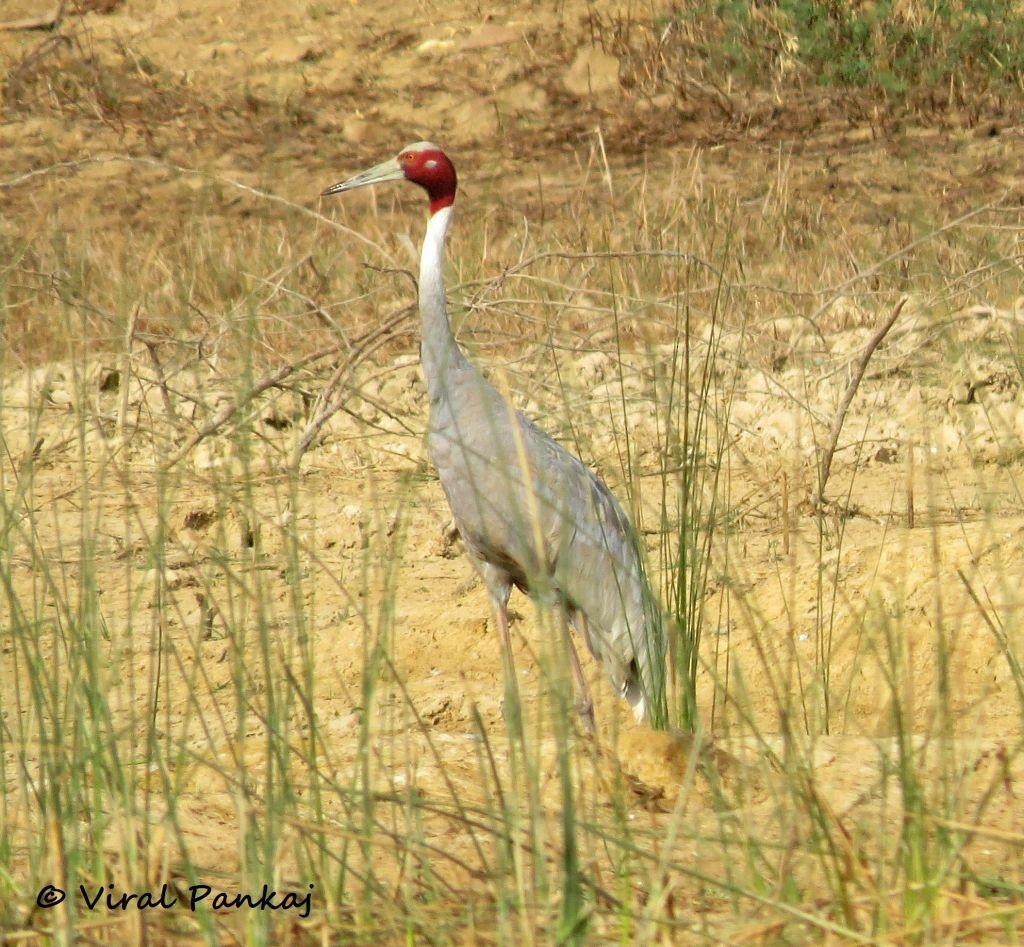crane: (319, 137, 691, 744)
